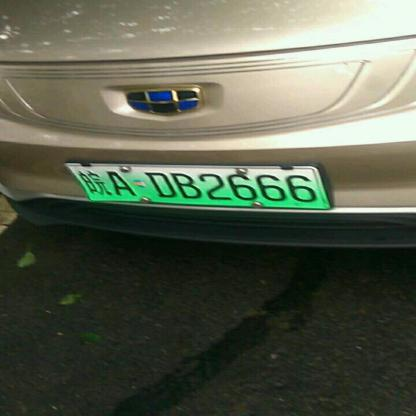lp: (68, 166, 327, 206)
